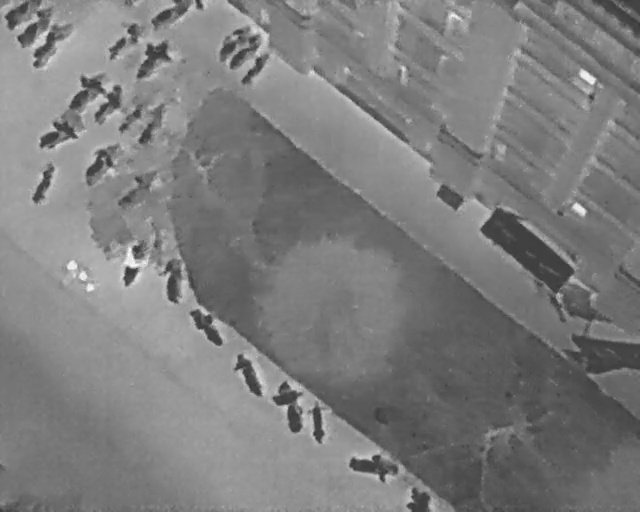Bicycle: (122, 29, 182, 89), (19, 13, 78, 73), (56, 60, 115, 120), (107, 159, 169, 216), (71, 134, 129, 194), (267, 375, 315, 439), (97, 14, 151, 69), (182, 299, 232, 355), (128, 95, 175, 150), (207, 16, 257, 67), (225, 348, 270, 404), (10, 1, 60, 51), (220, 25, 269, 75), (85, 79, 132, 130), (113, 236, 151, 293), (231, 44, 277, 91), (29, 114, 81, 155), (346, 450, 402, 484), (110, 95, 152, 140), (150, 0, 204, 32), (28, 156, 60, 207), (303, 397, 333, 447), (2, 0, 43, 32), (161, 253, 184, 306), (404, 484, 432, 510)
Person: (60, 254, 102, 297)
